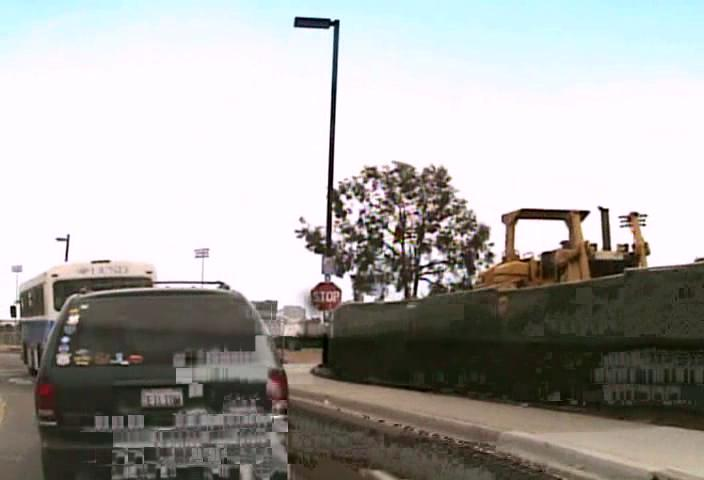stop: (309, 280, 342, 312)
